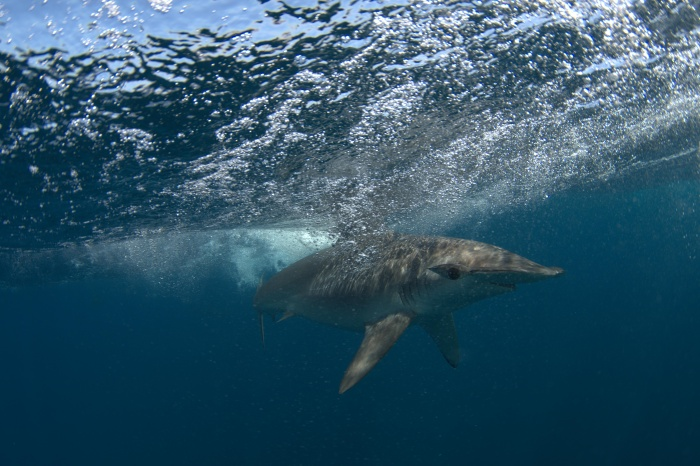Hammer: (211, 211, 587, 424)
